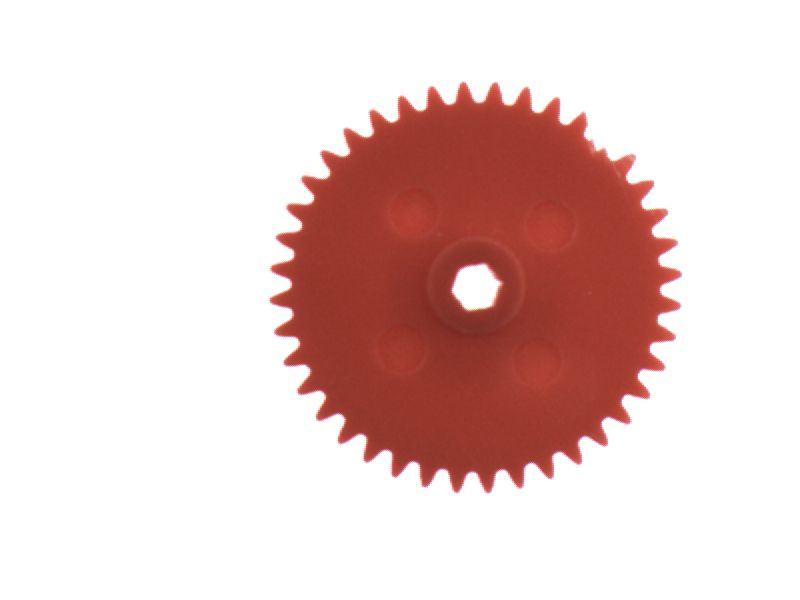defect_lack: (573, 111, 645, 165)
